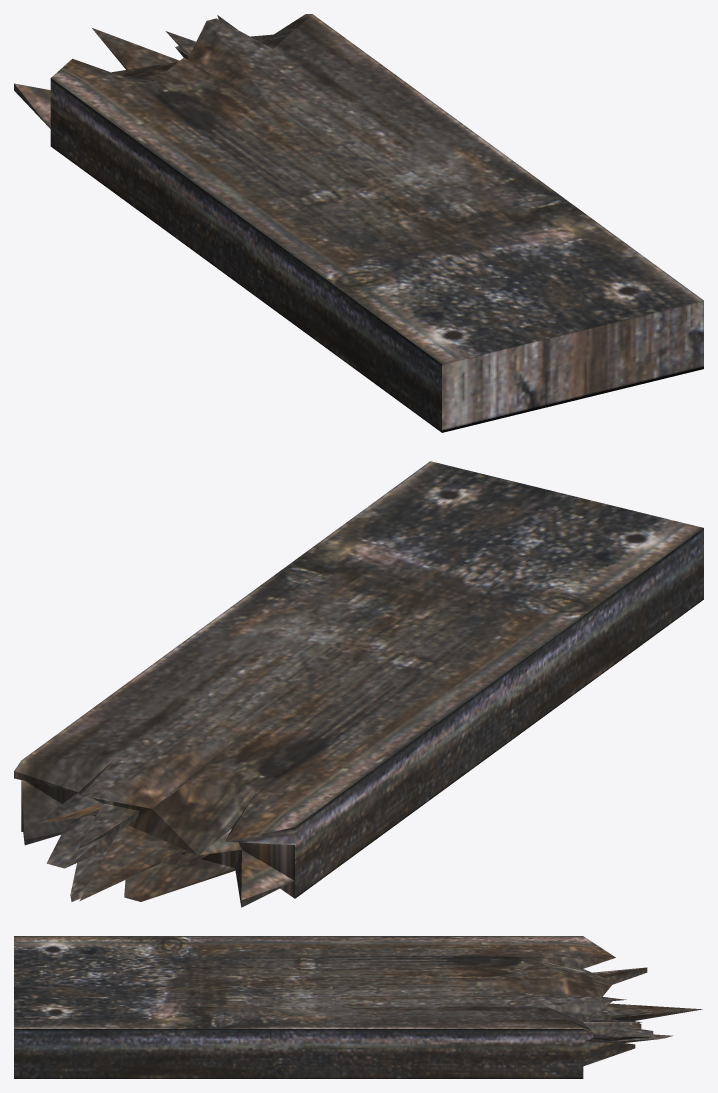
The model's file is Plank - 1-4.FBX.
The picture shows the model from 3 angles, top to bottom: view 1: azimuth 30°, elevation 25°; view 2: azimuth 150°, elevation 25°; view 3: azimuth 270°, elevation 25°; orthographic projection. The views are drawn at different scales.
Visible parts, largest first — view 1: Plank - 3/4; view 2: Plank - 3/4; view 3: Plank - 3/4.
Boxes of the visible parts, <box> form: Plank - 3/4: <box>14,14,703,432</box>; Plank - 3/4: <box>14,461,703,907</box>; Plank - 3/4: <box>14,936,702,1078</box>.
Size of the model in its own units: 2 by 0.5008 by 6.27.
